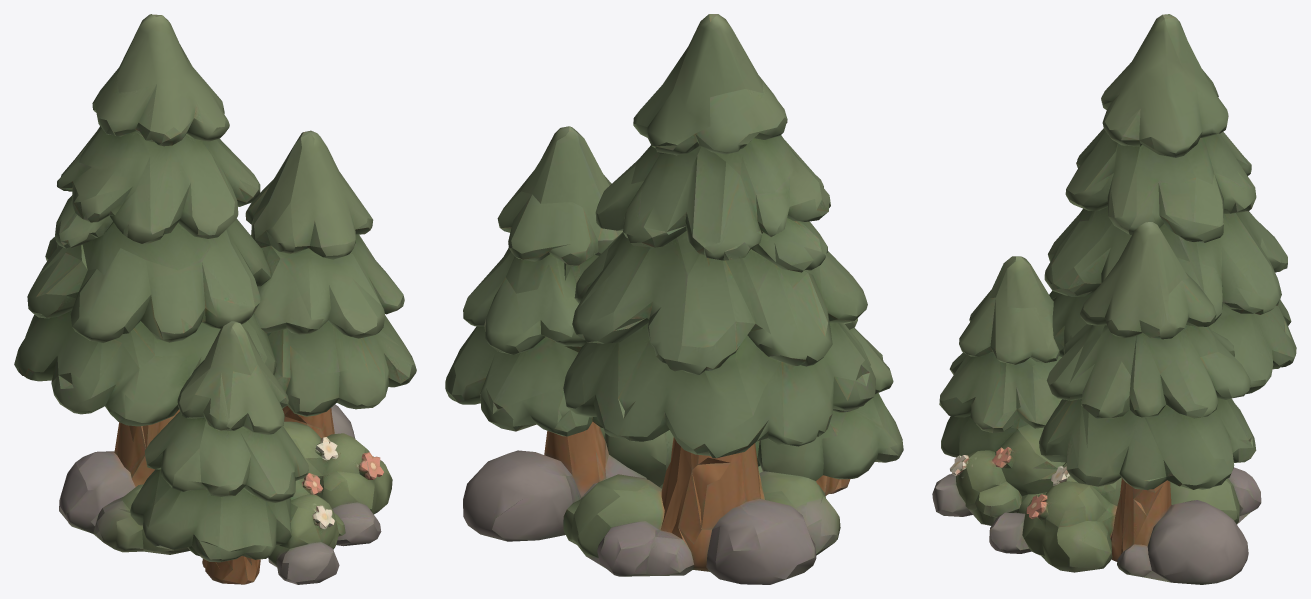
The model's file is common-nature-small-pine-tree-cottage-normal.glb.
The picture shows the model from 3 angles, left to right: view 1: azimuth 30°, elevation 25°; view 2: azimuth 150°, elevation 25°; view 3: azimuth 270°, elevation 25°; orthographic projection. The views are drawn at different scales.
Visible parts, largest first — view 1: Mesh_0; view 2: Mesh_0; view 3: Mesh_0.
Part boxes in pixels (left/top/right/bottom): Mesh_0: left=14, top=14, right=416, bottom=584; Mesh_0: left=445, top=14, right=903, bottom=584; Mesh_0: left=932, top=14, right=1296, bottom=584.
Size of the model in its own units: 1.2 by 1.61 by 1.12.
Materials: 1 (1 with a texture image).
